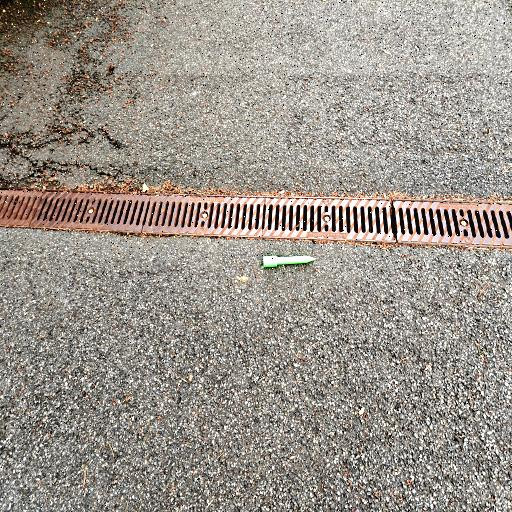Probe-Detection: (263, 256, 316, 268)
